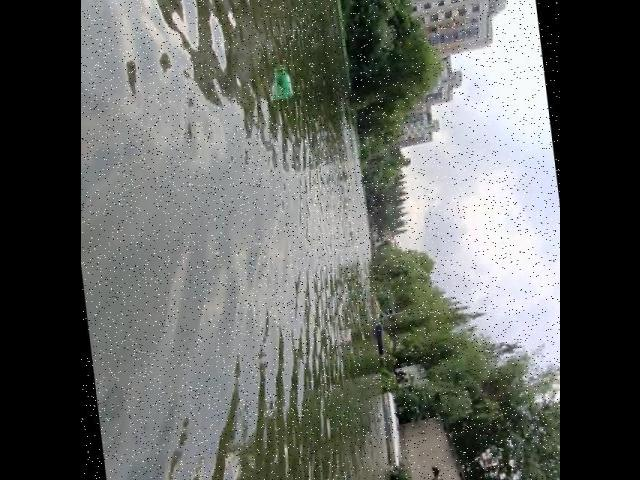Bottle: (270, 56, 296, 107)
